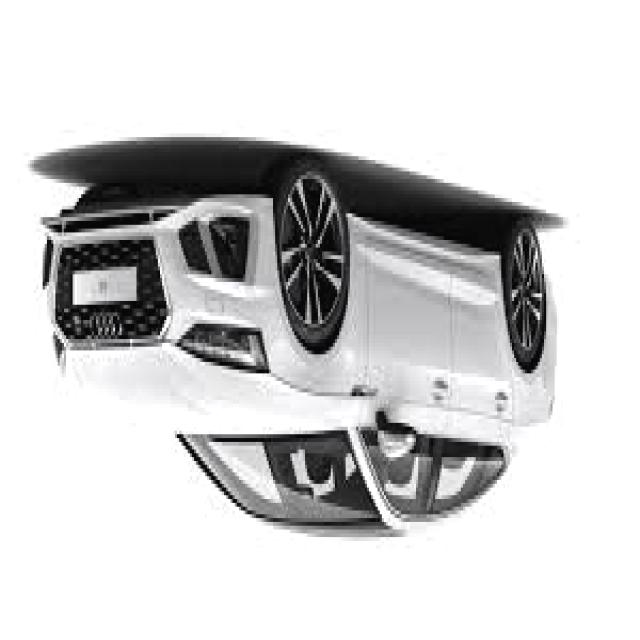white: (43, 154, 556, 544)
